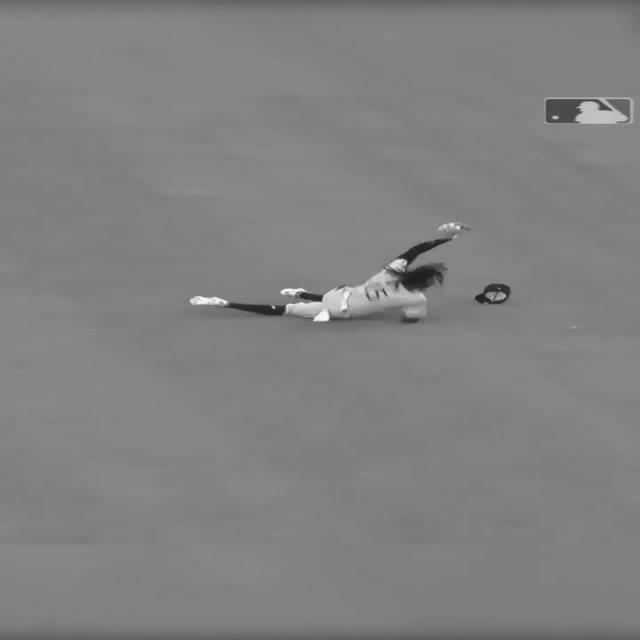baseball_glove: (433, 222, 473, 235)
shoe: (183, 296, 235, 308), (276, 288, 310, 298)
